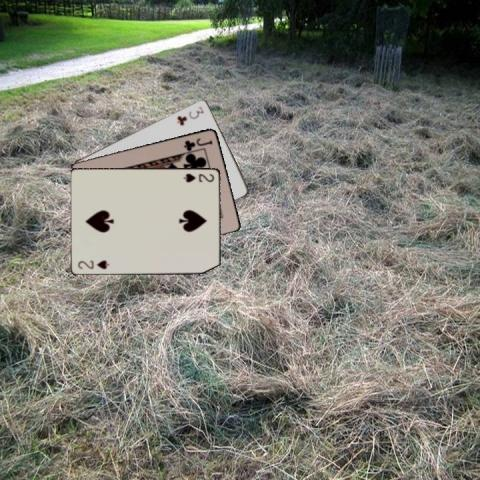2s: (75, 257, 110, 270), (181, 171, 215, 183)
3c: (174, 103, 205, 127)
Jc: (181, 135, 214, 151)
